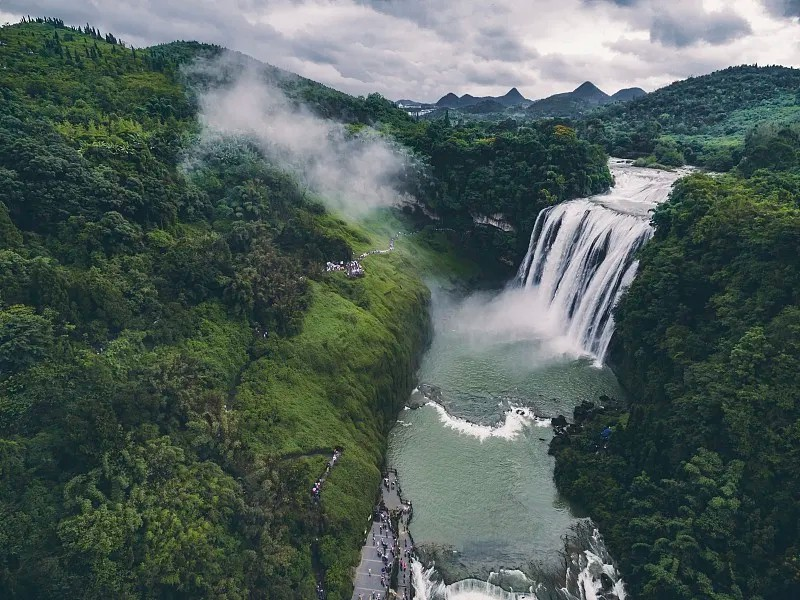Huangguoshu: (513, 158, 677, 365)
